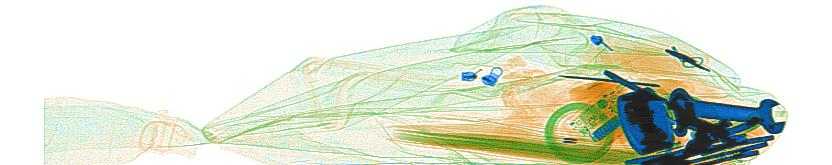battery: (586, 112, 626, 143)
